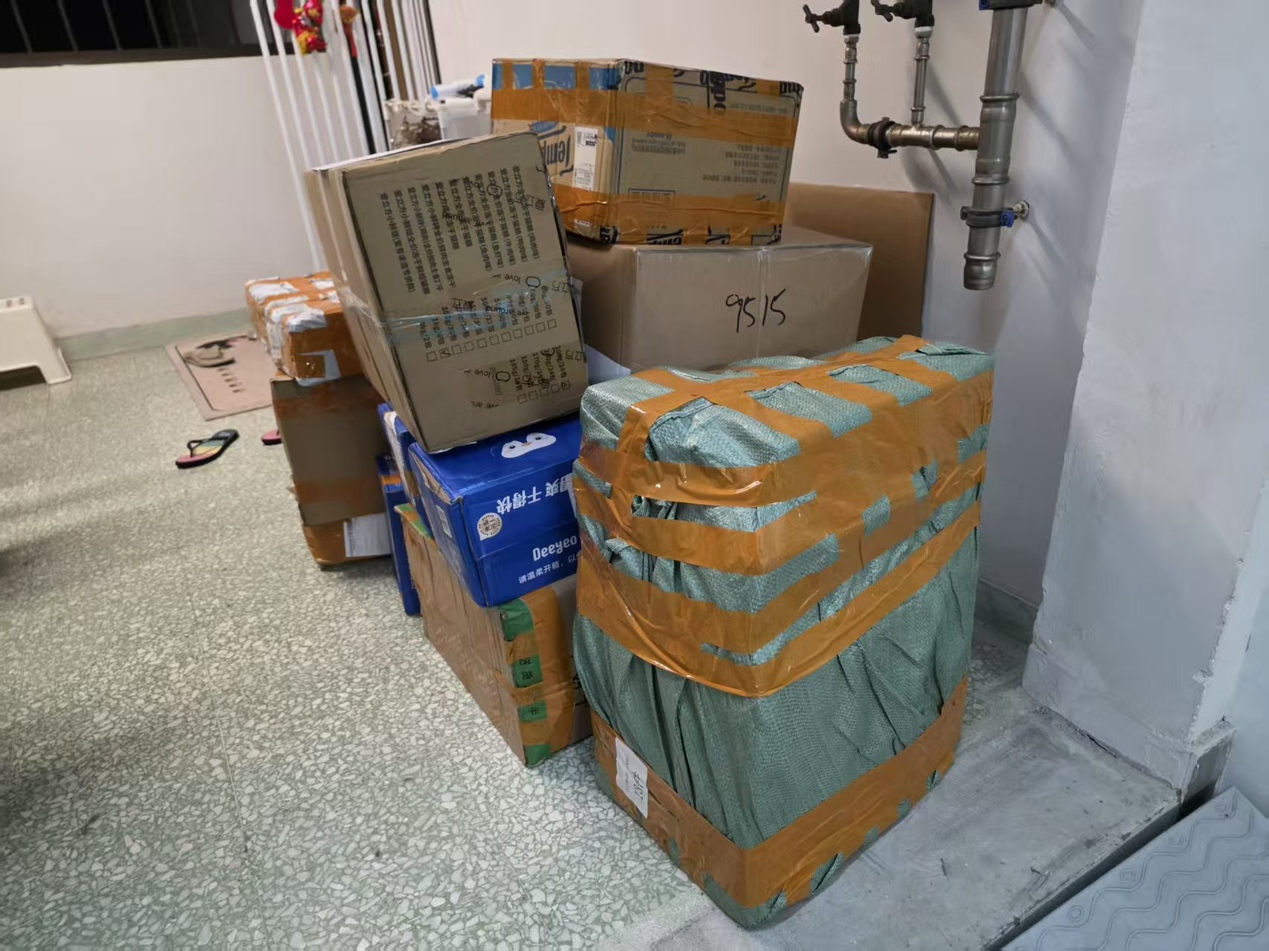bulk_waste: (572, 336, 992, 925), (305, 132, 587, 449), (492, 59, 802, 245), (569, 228, 873, 384), (408, 529, 590, 765), (408, 412, 581, 606), (272, 376, 391, 566), (245, 271, 361, 384)
